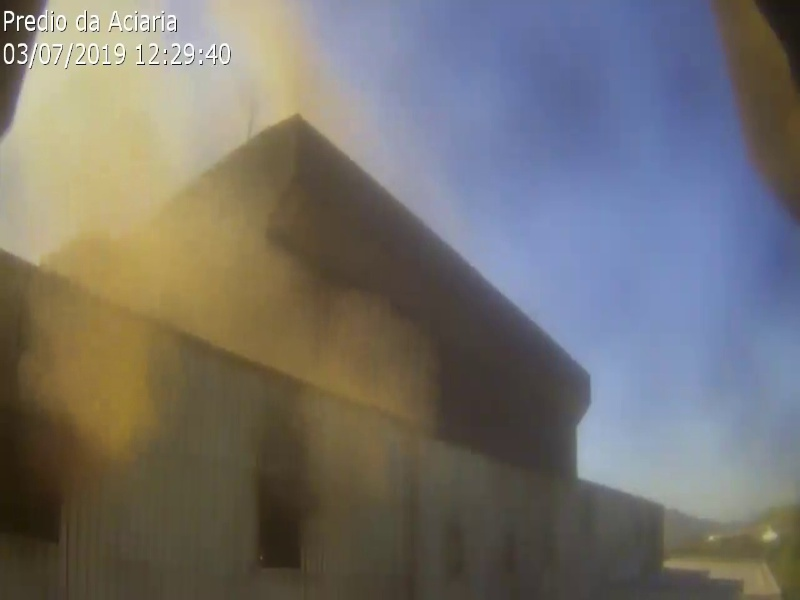Pessimo: (15, 79, 473, 473)
